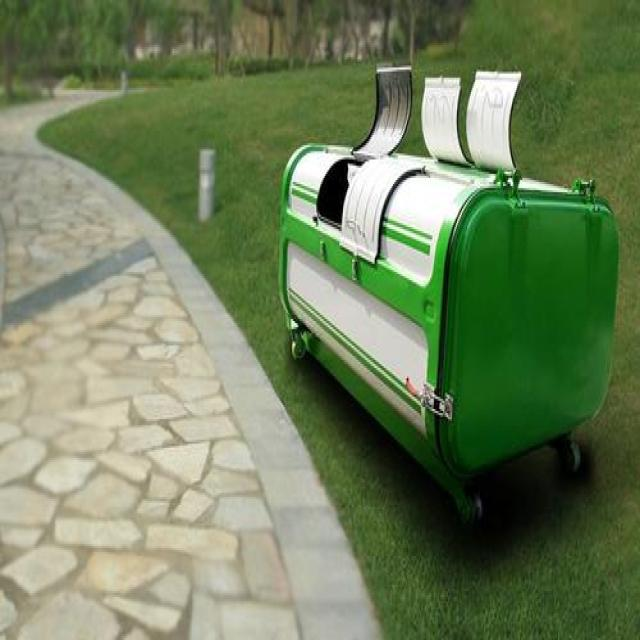garbage_bin: (276, 141, 618, 519)
